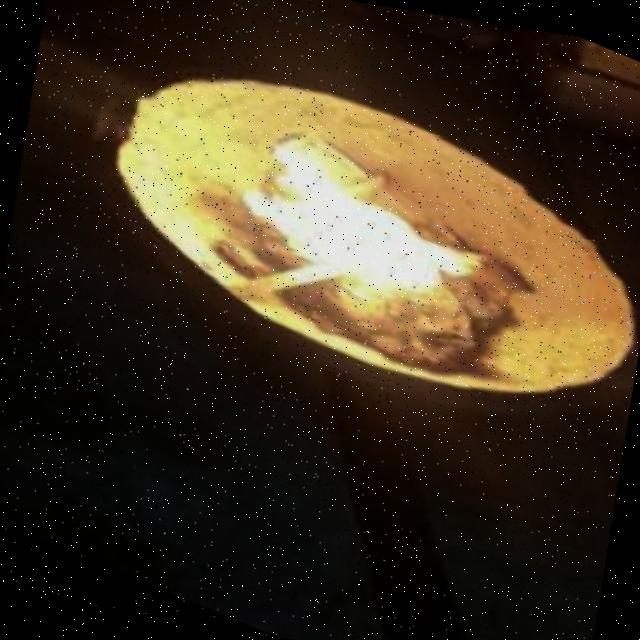fire: (161, 114, 519, 358)
